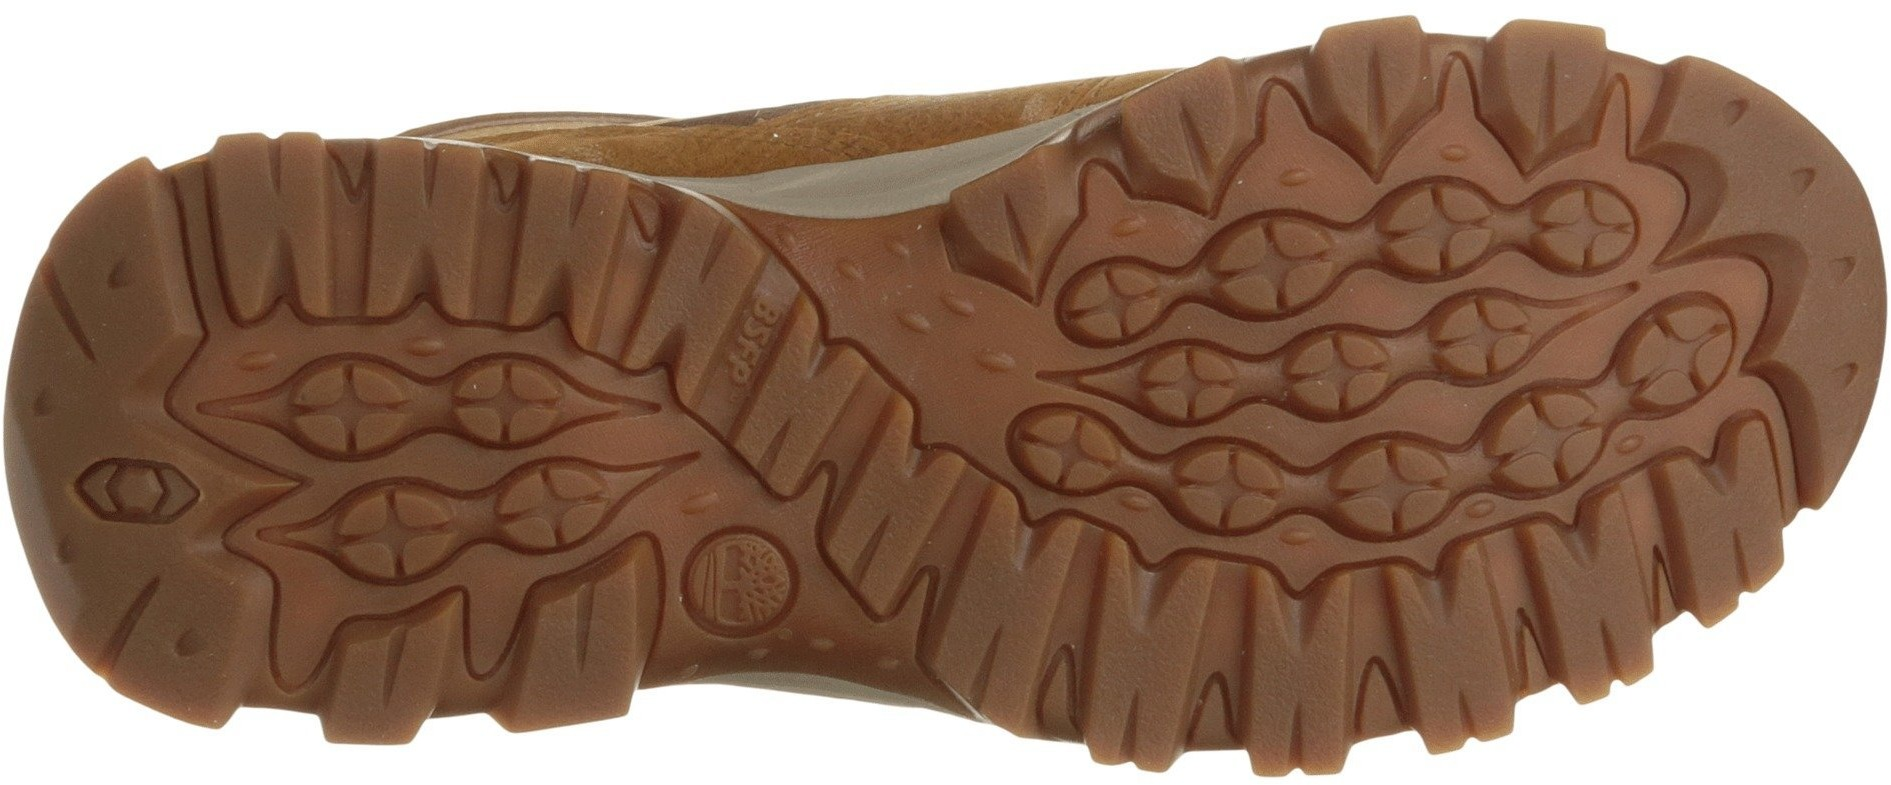bowtie: (713, 323, 1007, 593), (1049, 509, 1245, 778)
circle: (1171, 156, 1597, 553), (289, 326, 586, 596)
exclude: (320, 2, 1315, 221)
polygon: (110, 459, 171, 527)
